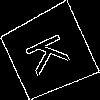K: (24, 27, 79, 78)
